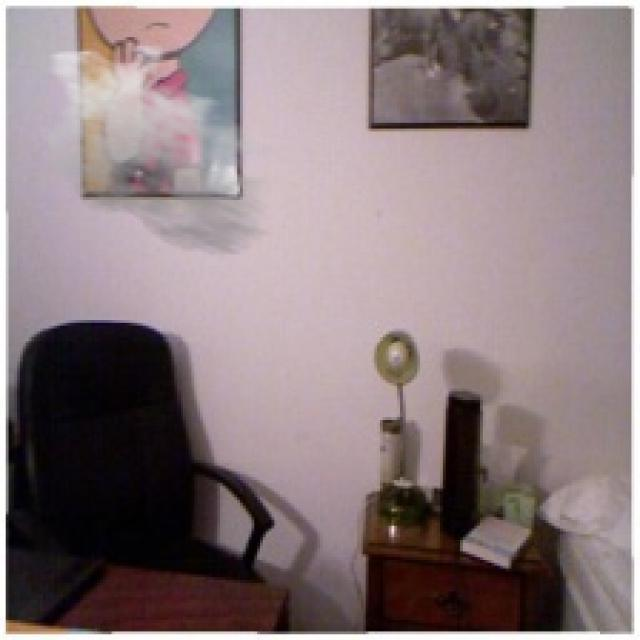Smoke: (35, 42, 292, 258)
